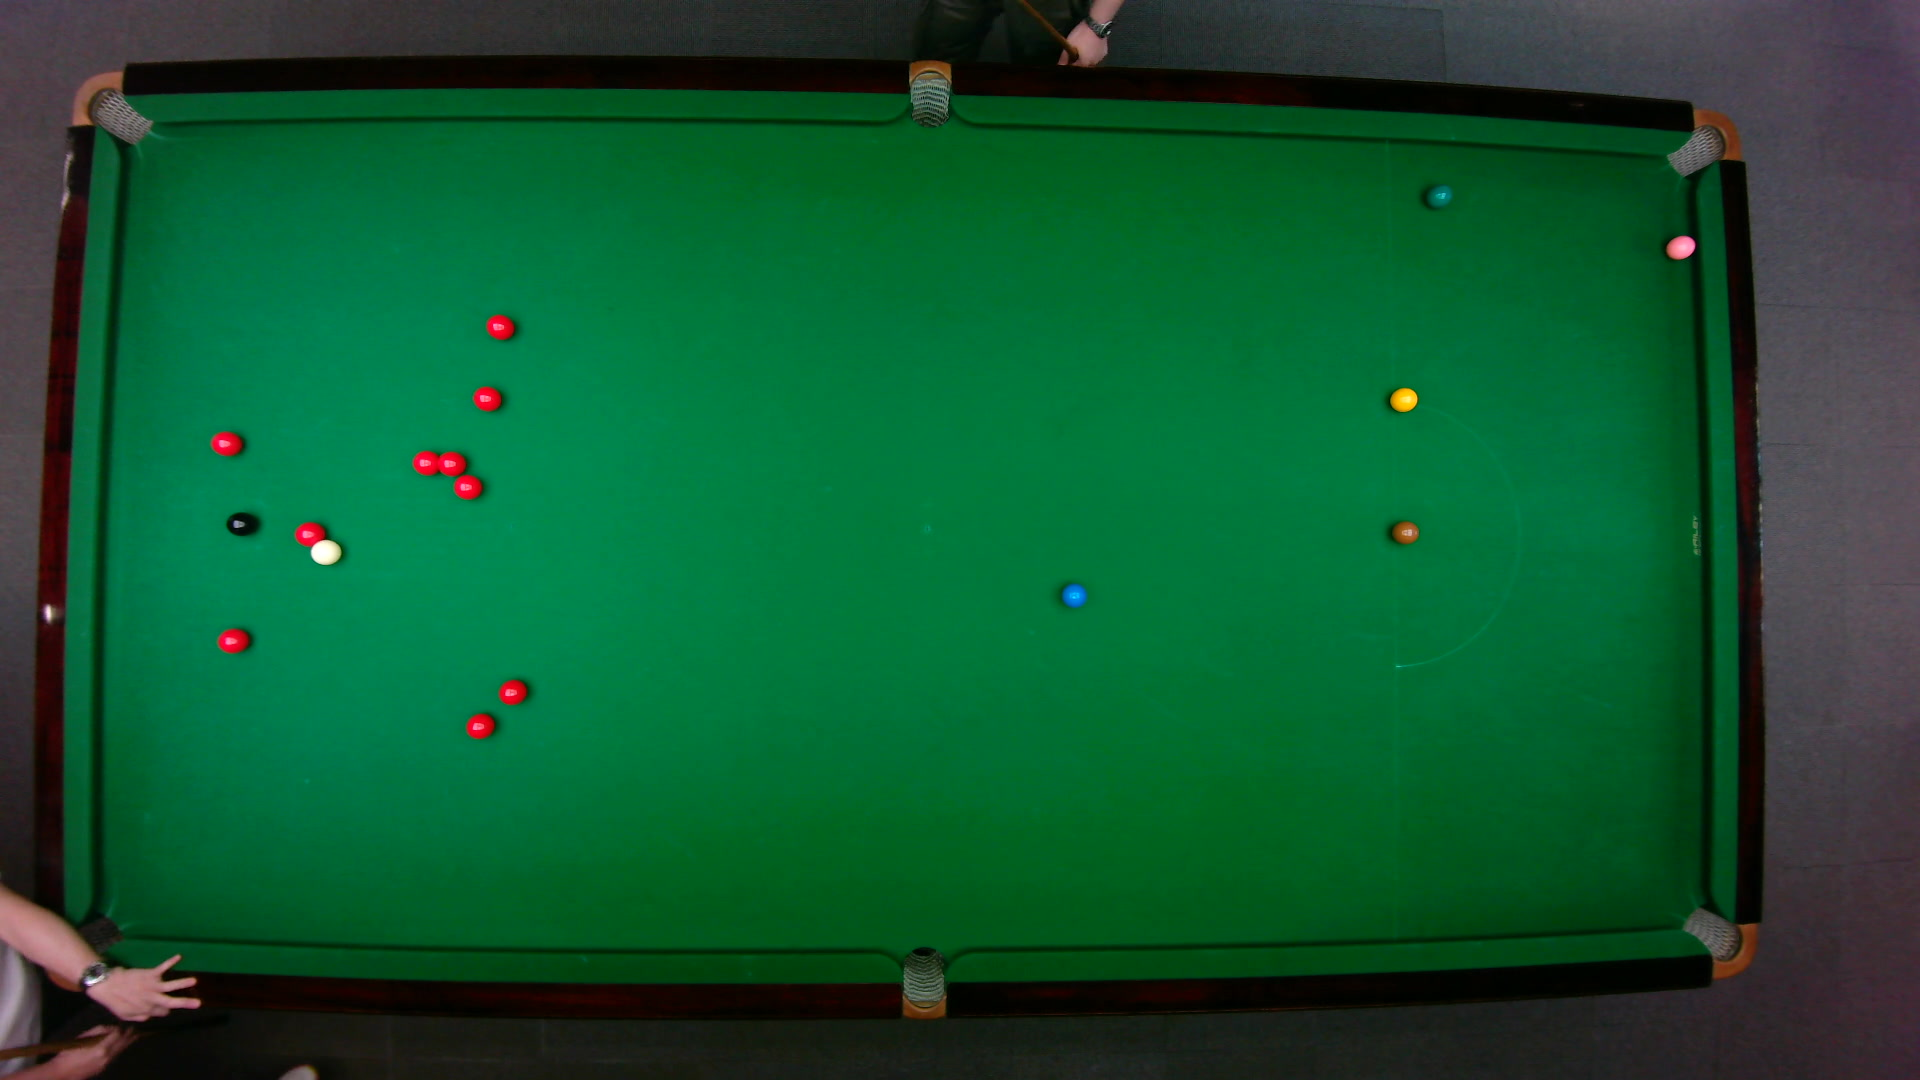bag: (38, 910, 128, 994), (69, 69, 153, 145), (1677, 905, 1756, 978), (1663, 107, 1741, 178), (901, 944, 944, 1021), (909, 55, 951, 128)
black: (223, 510, 256, 535)
blue: (1059, 582, 1087, 608)
brown: (1390, 520, 1419, 545)
green: (1422, 182, 1453, 208)
pink: (1663, 232, 1697, 260)
red: (214, 625, 251, 654), (208, 429, 244, 456), (496, 676, 527, 705), (463, 711, 496, 738), (471, 384, 502, 411), (484, 313, 516, 340), (451, 472, 483, 500), (410, 448, 442, 476), (436, 448, 467, 476), (293, 520, 324, 546)
white: (309, 537, 342, 564)
yellow: (1387, 385, 1419, 411)
zone: (1389, 400, 1520, 667)
